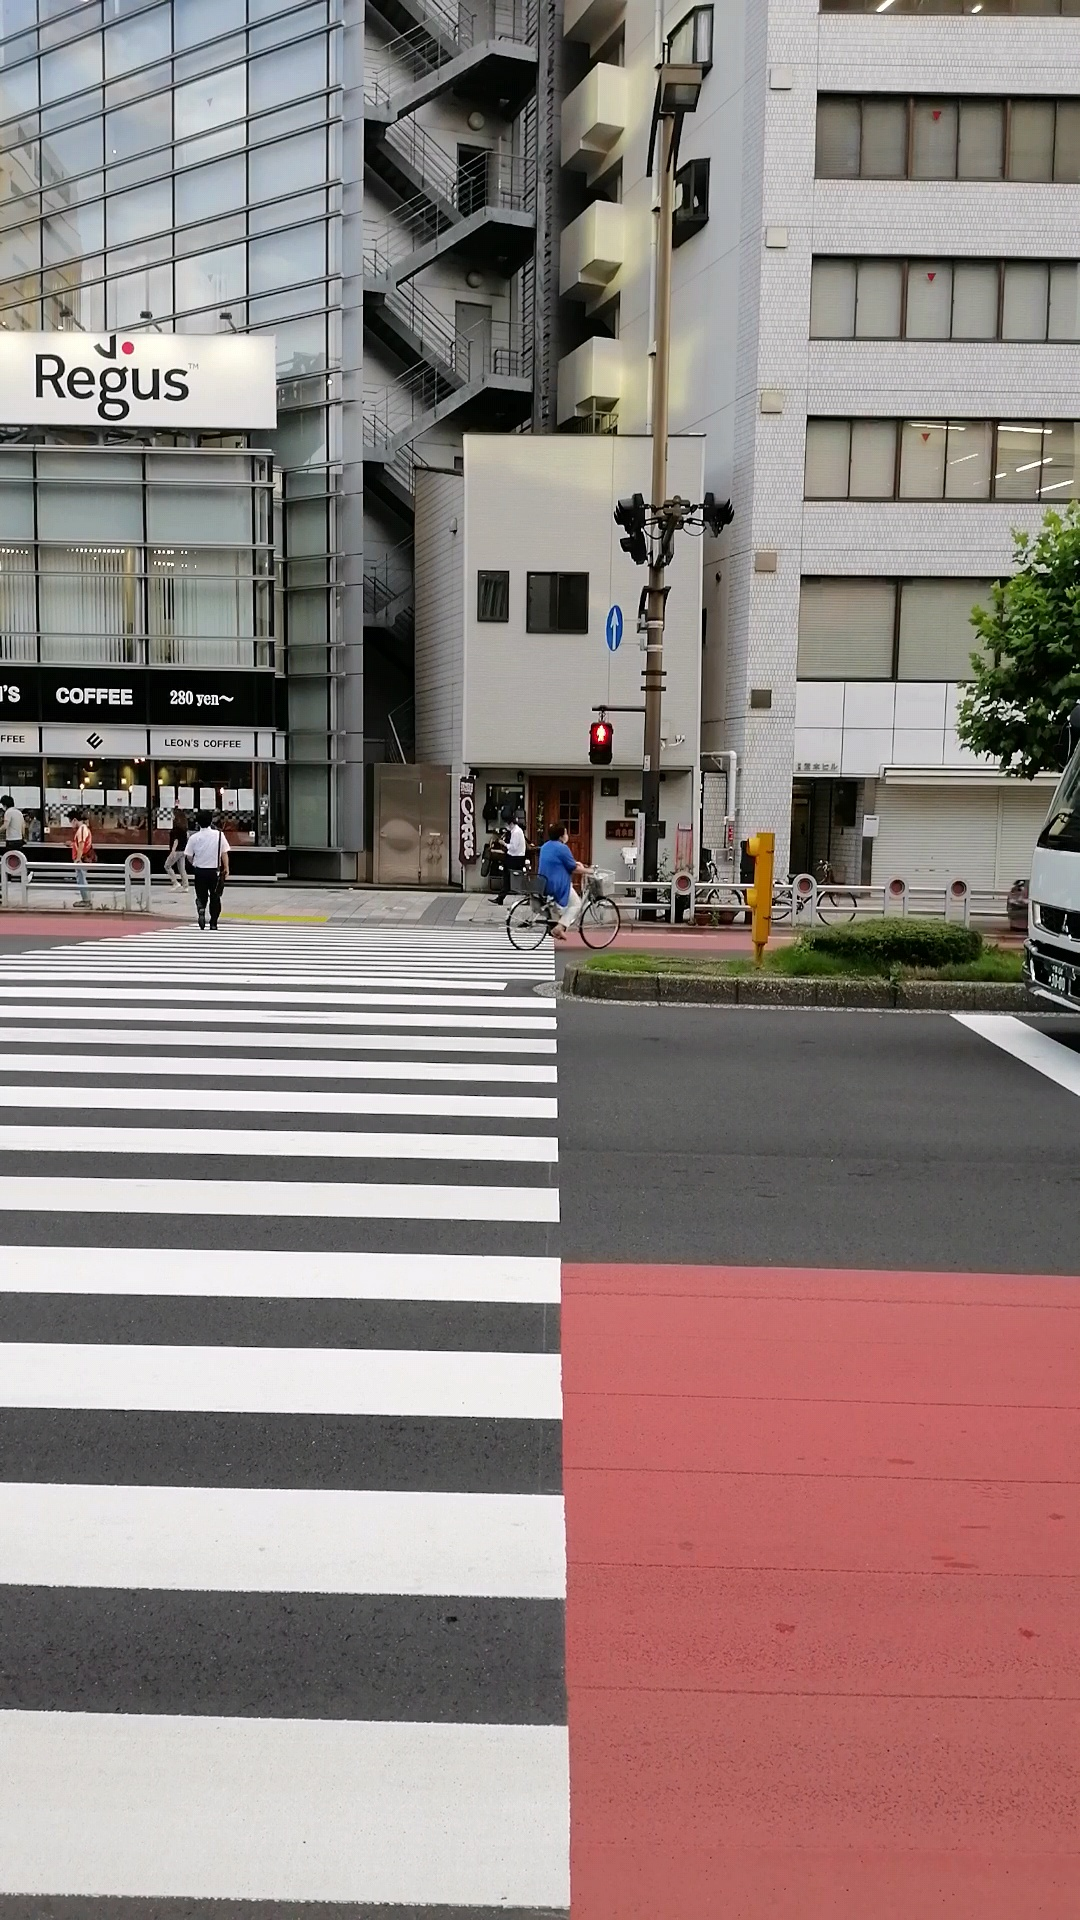red: (589, 721, 611, 766)
